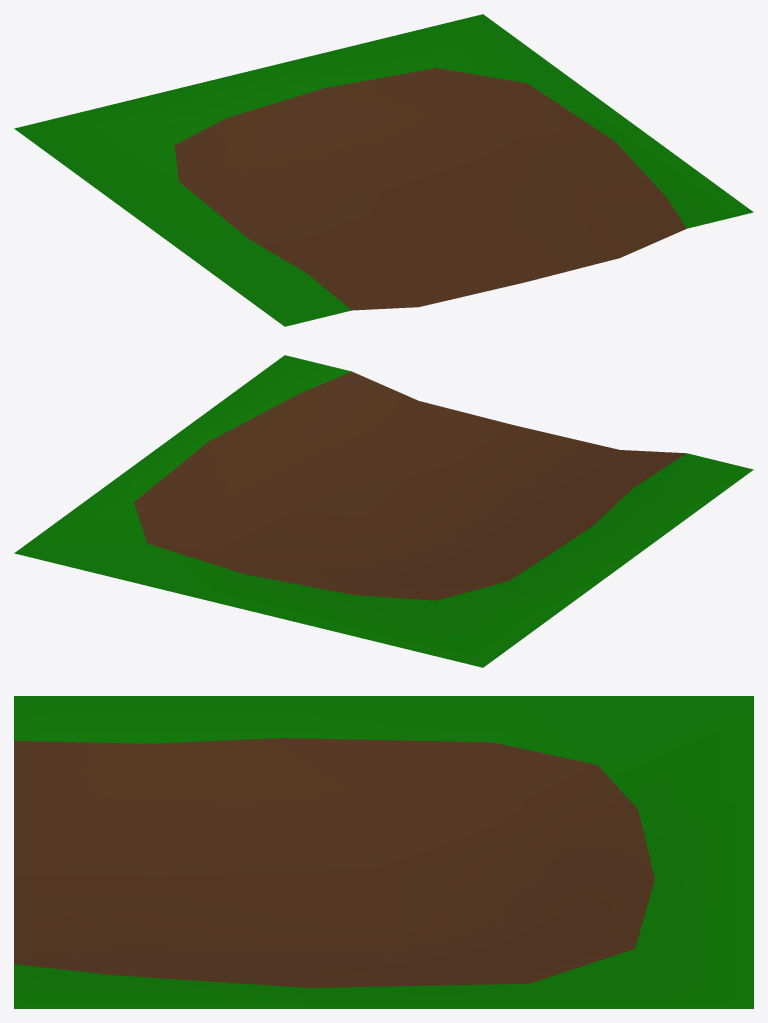
Rendered from path_end.fbx.
3 renders of one model, top to bottom at view 1: azimuth 30°, elevation 25°; view 2: azimuth 150°, elevation 25°; view 3: azimuth 270°, elevation 25°, orthographic. The views are drawn at different scales.
Parts seen in each view (by area): view 1: path_end; view 2: path_end; view 3: path_end.
Part boxes in pixels (bbox=[...]): path_end: bbox=[14, 14, 753, 326]; path_end: bbox=[14, 355, 753, 667]; path_end: bbox=[14, 696, 753, 1008].
Bounding box in the file's own units: 100 × 3.18 × 100.
